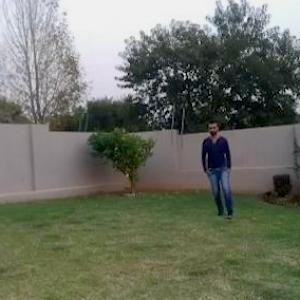follow: (202, 116, 234, 220)
